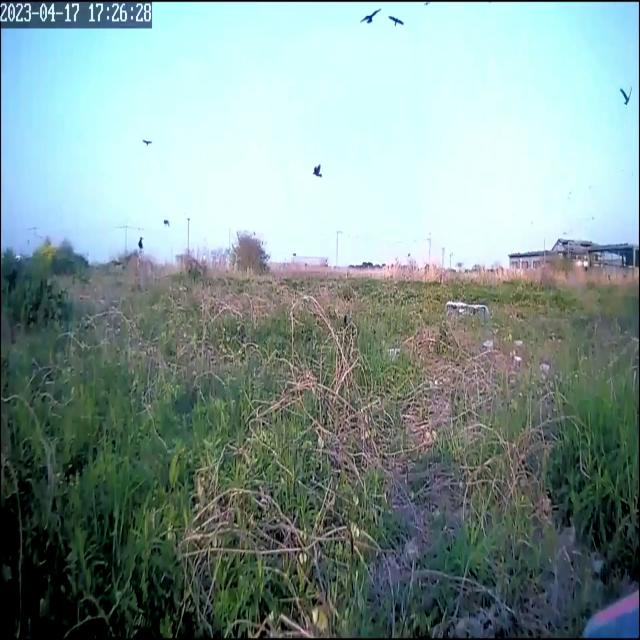bird: (360, 2, 381, 37), (618, 76, 634, 116), (386, 7, 404, 40), (312, 155, 322, 187), (142, 130, 152, 155), (163, 212, 170, 234)
